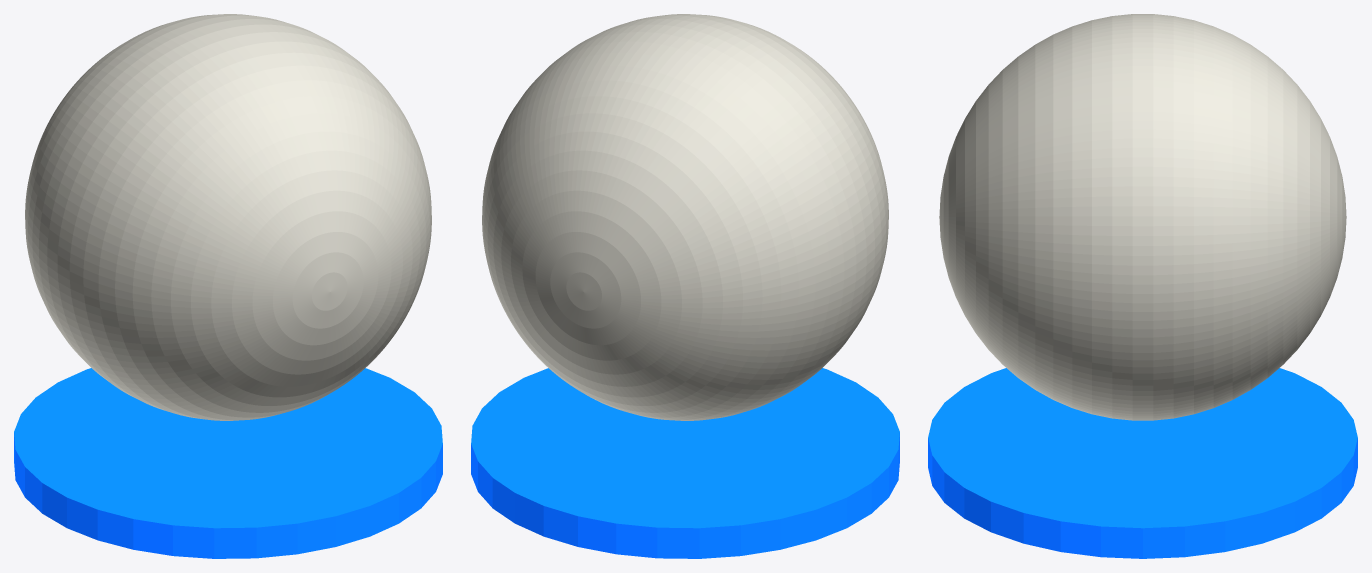
File: sports_volleyball.dae
The picture shows the model from 3 angles, left to right: view 1: azimuth 30°, elevation 25°; view 2: azimuth 150°, elevation 25°; view 3: azimuth 270°, elevation 25°; orthographic projection.
Parts seen in each view (by area): view 1: 04_06_Popular_Sports_Volleyball_part_01, 04_06_Popular_Sports_Volleyball_ROOT_base; view 2: 04_06_Popular_Sports_Volleyball_part_01, 04_06_Popular_Sports_Volleyball_ROOT_base; view 3: 04_06_Popular_Sports_Volleyball_part_01, 04_06_Popular_Sports_Volleyball_ROOT_base.
Boxes of the visible parts, x1=… form: 04_06_Popular_Sports_Volleyball_part_01: x1=25, y1=14, x2=431, y2=420; 04_06_Popular_Sports_Volleyball_ROOT_base: x1=14, y1=368, x2=442, y2=558; 04_06_Popular_Sports_Volleyball_part_01: x1=482, y1=14, x2=888, y2=420; 04_06_Popular_Sports_Volleyball_ROOT_base: x1=471, y1=368, x2=899, y2=558; 04_06_Popular_Sports_Volleyball_part_01: x1=939, y1=14, x2=1346, y2=420; 04_06_Popular_Sports_Volleyball_ROOT_base: x1=928, y1=368, x2=1357, y2=558.
Bounding box in the file's own units: 0.76 × 0.8491 × 0.76.
